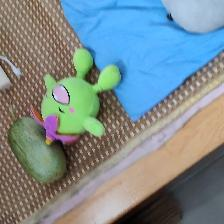gua: (12, 128, 56, 170)
